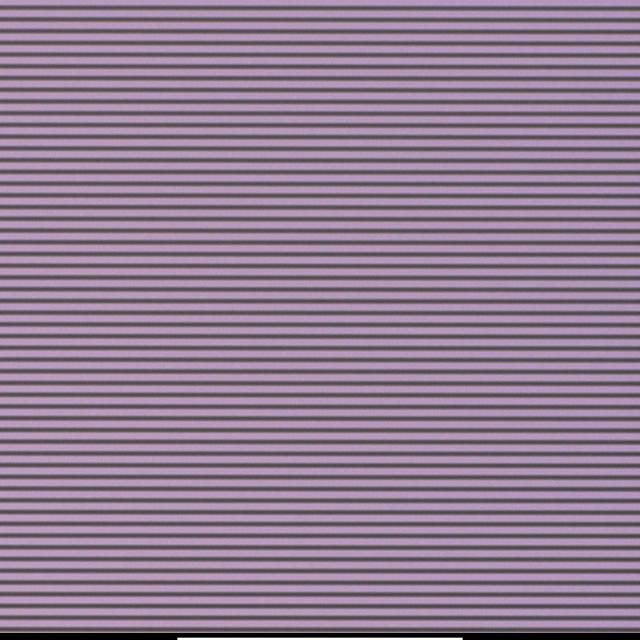nonvisual: (312, 302, 320, 313)
